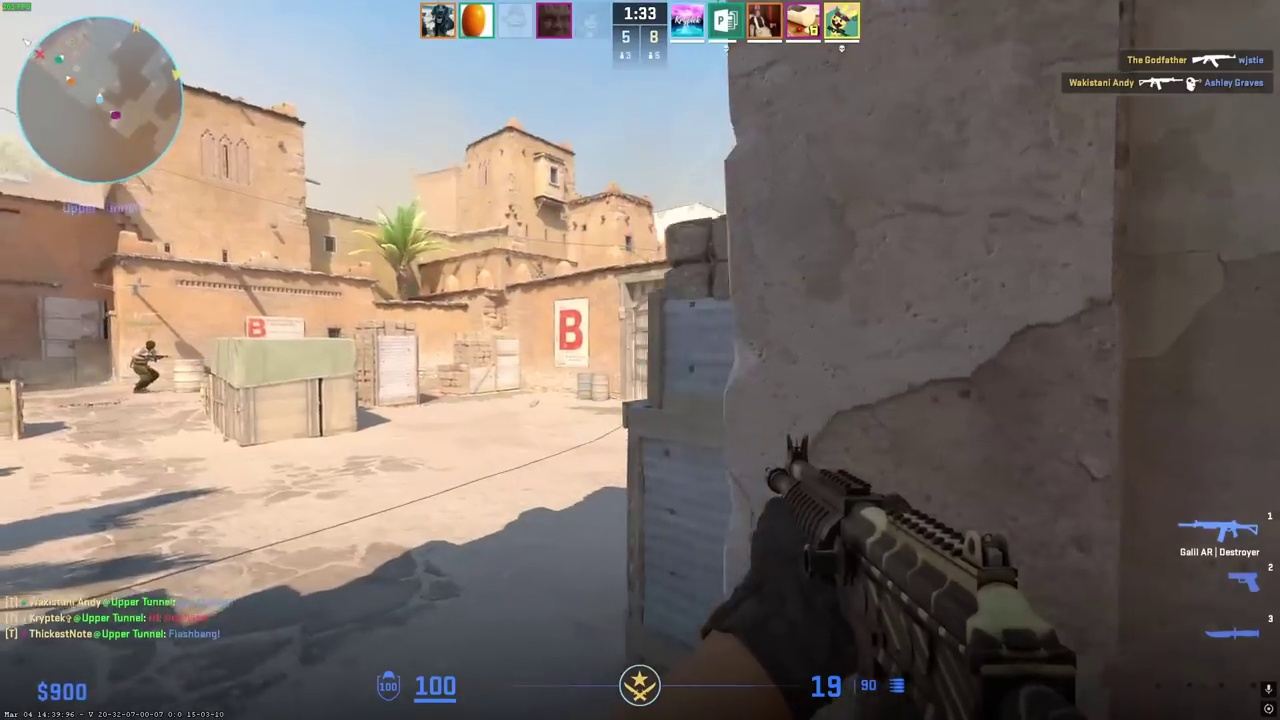Terrorist: (130, 340, 161, 393)
